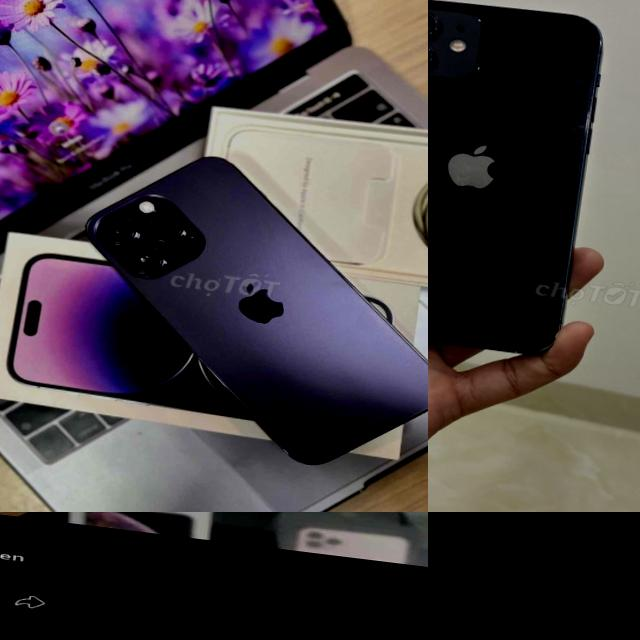gen_12_13: (428, 0, 613, 367), (428, 512, 640, 640)
gen_14: (54, 137, 428, 487)
gen_15: (23, 512, 428, 564)
physical_damage: (428, 588, 639, 640)
